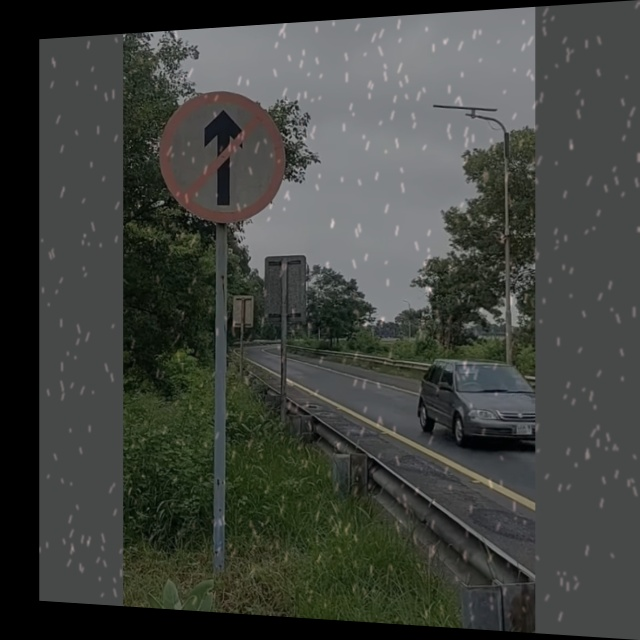No_Entry: (162, 90, 285, 223)
